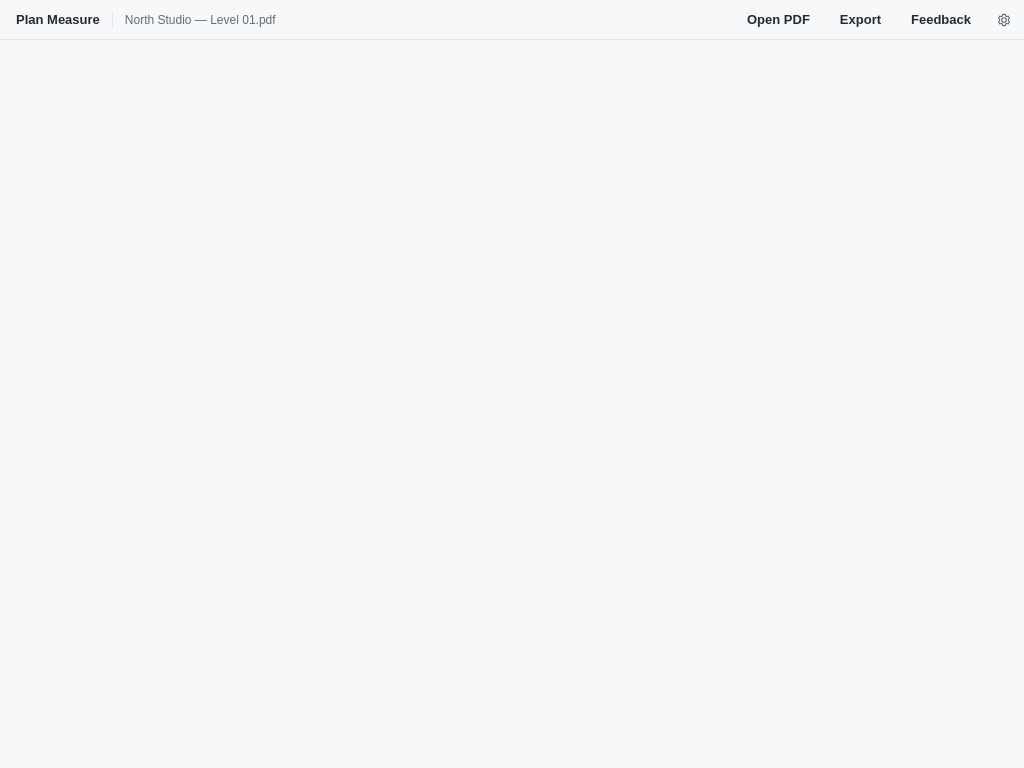
Scenario: AppBar › delegates Settings to the structured dialog popover
Click the button named "Settings" at [1004, 20], box [988,4,1020,36]
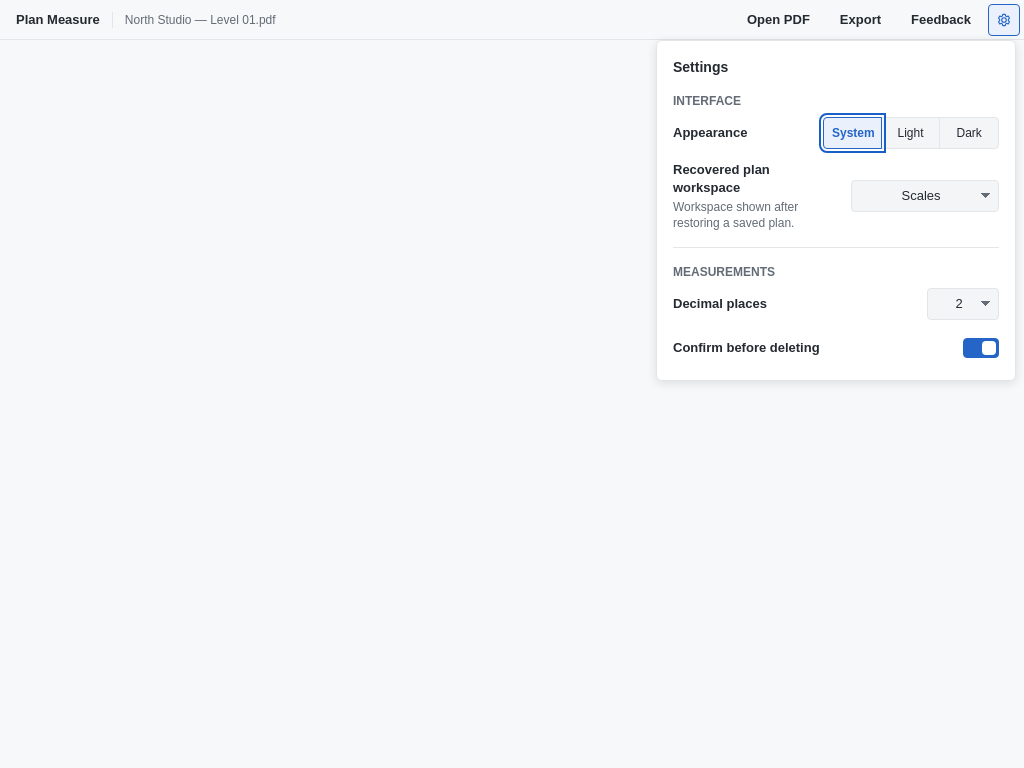
Result: the dialog is shown at [656,40,1016,380]
Result: the dialog shows "Settings" at [673,58,728,74]
Result: the dialog shows "INTERFACE" at [673,94,741,108]
